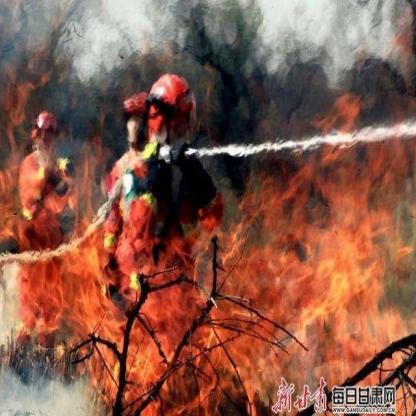Fire: (244, 79, 415, 415), (108, 327, 250, 413), (32, 247, 118, 338)
